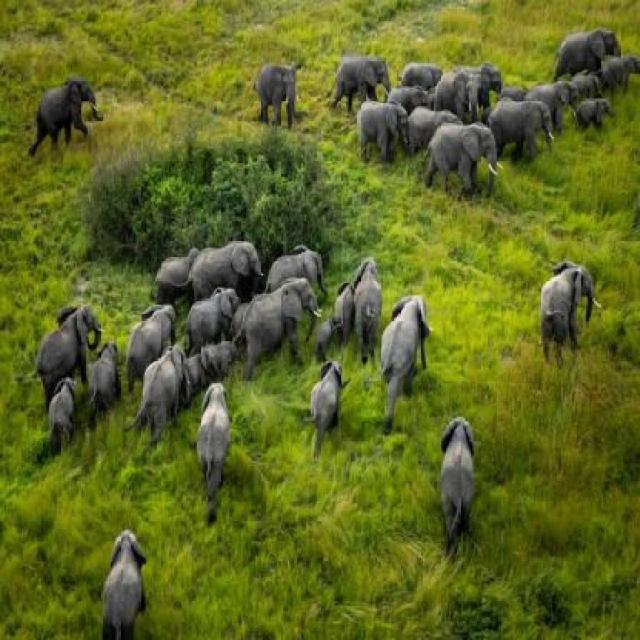elephant: (533, 249, 610, 351), (242, 279, 324, 370), (382, 276, 428, 432), (440, 410, 480, 556), (98, 521, 151, 628), (34, 70, 109, 139), (563, 23, 631, 99), (36, 298, 102, 376), (184, 242, 261, 307), (436, 126, 498, 205), (122, 303, 186, 379), (201, 379, 239, 503), (246, 52, 303, 131), (146, 336, 186, 444), (476, 104, 550, 158), (307, 361, 359, 434), (149, 242, 214, 296), (363, 100, 408, 174), (179, 286, 239, 339), (336, 271, 376, 344), (444, 54, 496, 108), (360, 252, 385, 360), (183, 342, 243, 382), (44, 378, 78, 448), (337, 52, 388, 98), (530, 78, 572, 133), (89, 345, 118, 417), (411, 104, 458, 147), (389, 76, 433, 121), (603, 60, 640, 106), (579, 94, 619, 134), (556, 73, 593, 115), (504, 78, 525, 120), (316, 314, 341, 349), (404, 56, 428, 89)
